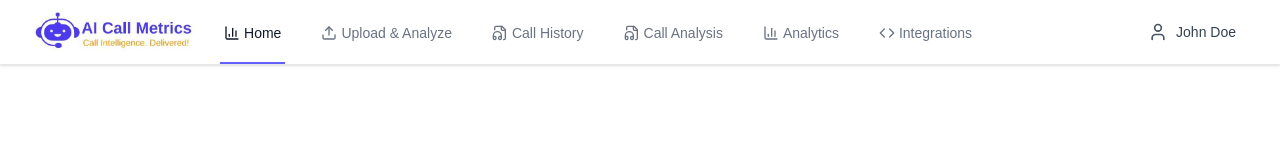
Test: Navigation Component › Edge Cases › should close user menu when clicked outside
Click the button "John Doe": (1192, 32) [1136, 14, 1248, 50]
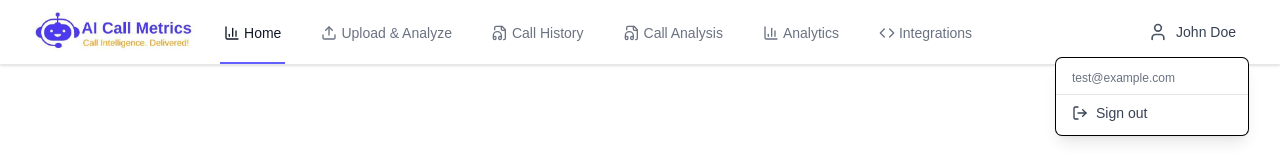
expect the button "Sign out" is shown: met, box [1056, 95, 1248, 131]
# Click the user button again to close the menu
Click the button "John Doe": (1192, 32) [1136, 14, 1248, 50]
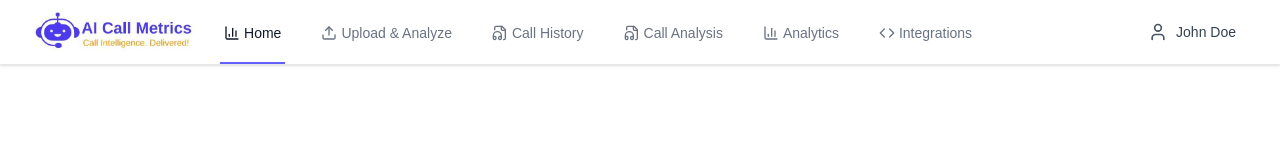
expect the button "Sign out" is gone: met
